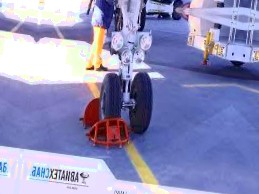chock: (84, 114, 133, 152), (79, 96, 103, 131)
wheel: (125, 70, 157, 135), (96, 71, 126, 123)
